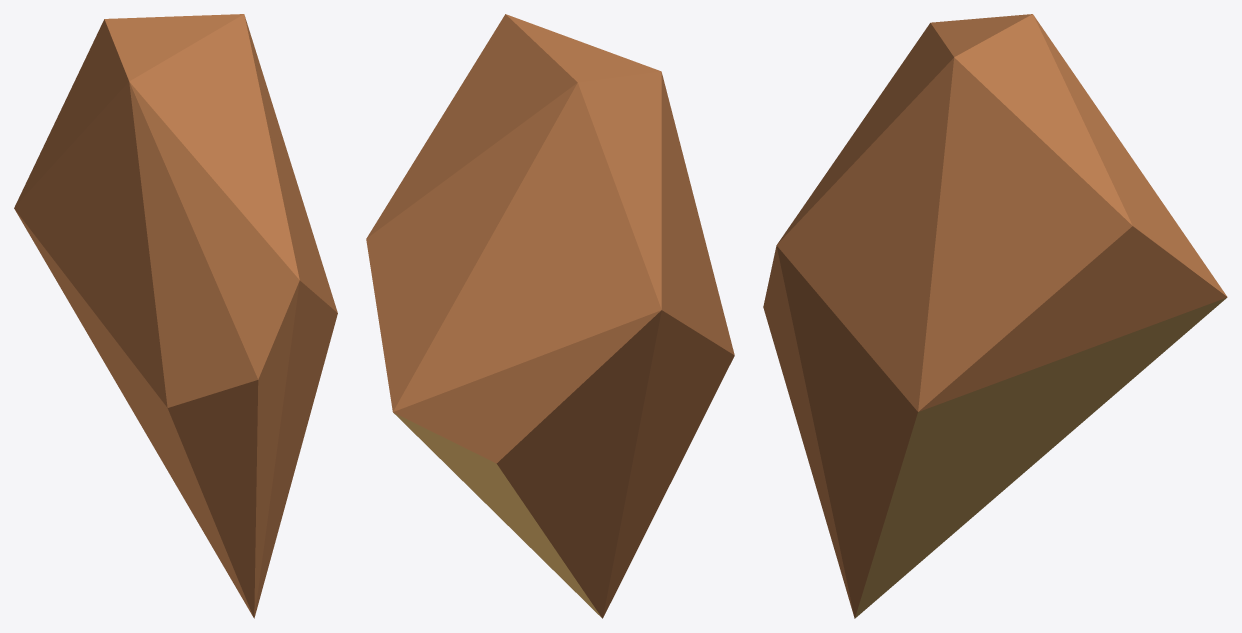
The model's file is BirchTree_Autumn_1.lod4.glb.
3 views of the same model, side by side, from view 1: azimuth 30°, elevation 25°; view 2: azimuth 150°, elevation 25°; view 3: azimuth 270°, elevation 25° (orthographic). The views are drawn at different scales.
Parts seen in each view (by area): view 1: BirchTree_Autumn_1; view 2: BirchTree_Autumn_1; view 3: BirchTree_Autumn_1.
Boxes of the visible parts, x1,y1,x2,y2 form: BirchTree_Autumn_1: [14, 14, 337, 618]; BirchTree_Autumn_1: [366, 14, 734, 618]; BirchTree_Autumn_1: [763, 14, 1227, 618].
Size of the model in its own units: 1.76 by 3.63 by 2.63.
